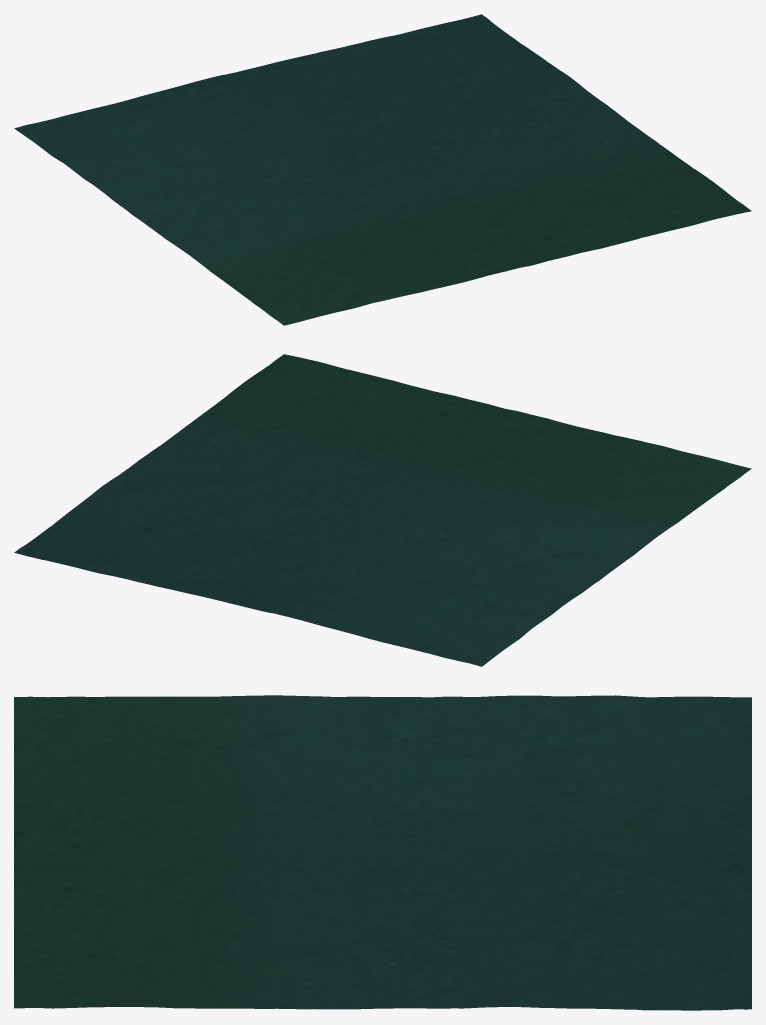
3 renders of one model, top to bottom at view 1: azimuth 30°, elevation 25°; view 2: azimuth 150°, elevation 25°; view 3: azimuth 270°, elevation 25°, orthographic. The views are drawn at different scales.
Size of the model in its own units: 104 by 0.7467 by 104.
3 materials, 3 textured.
